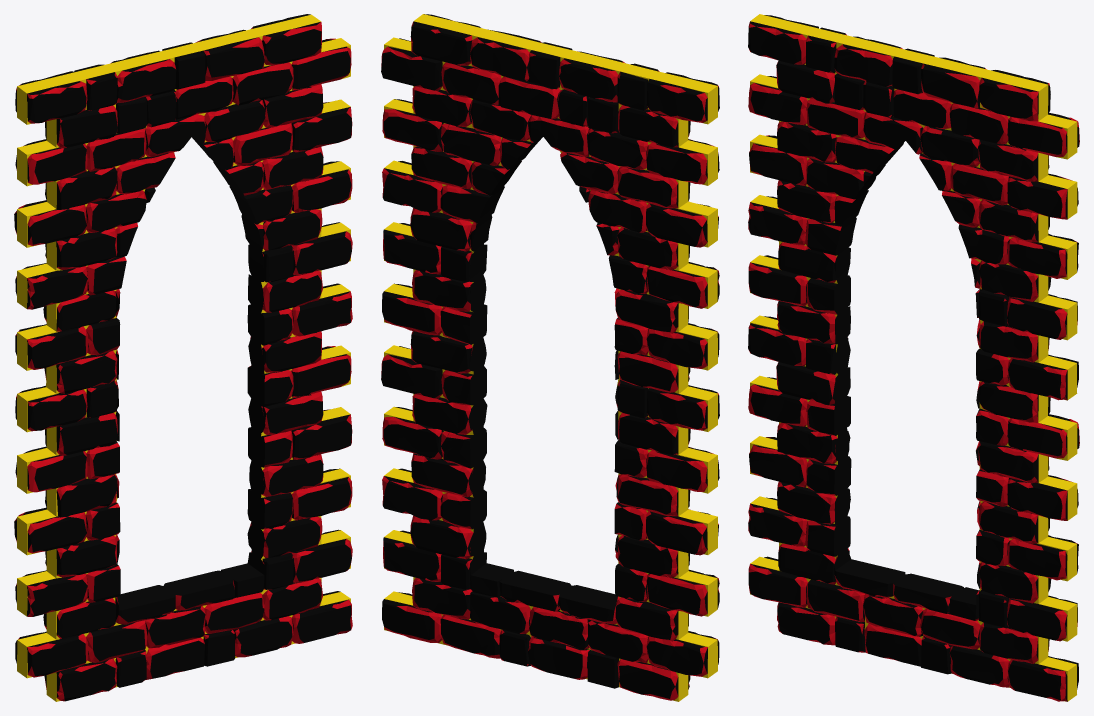
The model's file is SM_Wall_WindowLong_1x2.fbx.
3 renders of one model, left to right at view 1: azimuth 30°, elevation 25°; view 2: azimuth 150°, elevation 25°; view 3: azimuth 330°, elevation 25°, orthographic. The views are drawn at different scales.
Parts seen in each view (by area): view 1: SM_Wall_WindowLong_1x2; view 2: SM_Wall_WindowLong_1x2; view 3: SM_Wall_WindowLong_1x2.
Boxes of the visible parts, x1,y1,x2,y2 form: SM_Wall_WindowLong_1x2: (14,14,352,701); SM_Wall_WindowLong_1x2: (381,14,719,701); SM_Wall_WindowLong_1x2: (748,14,1079,701).
Size of the model in its own units: 441 by 44.5 by 801.
